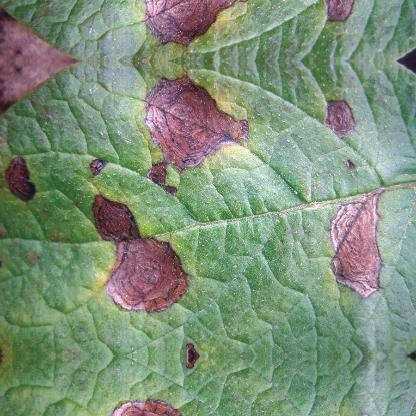Early-Blight: (1, 61, 413, 355), (1, 355, 413, 416), (1, 0, 413, 59)
